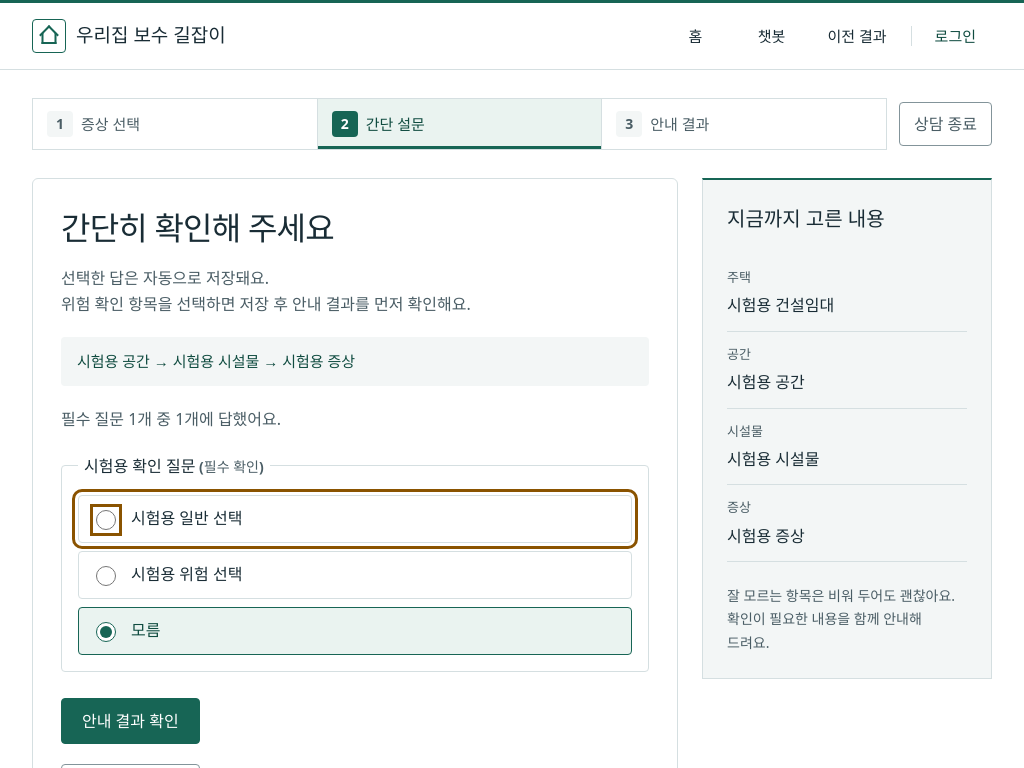
restores keyboard focus to the selected radio after saving reveals a follow-up question
Click the radio button labelled "시험용 일반 선택".
click(106, 520)  # box [96, 510, 116, 530]
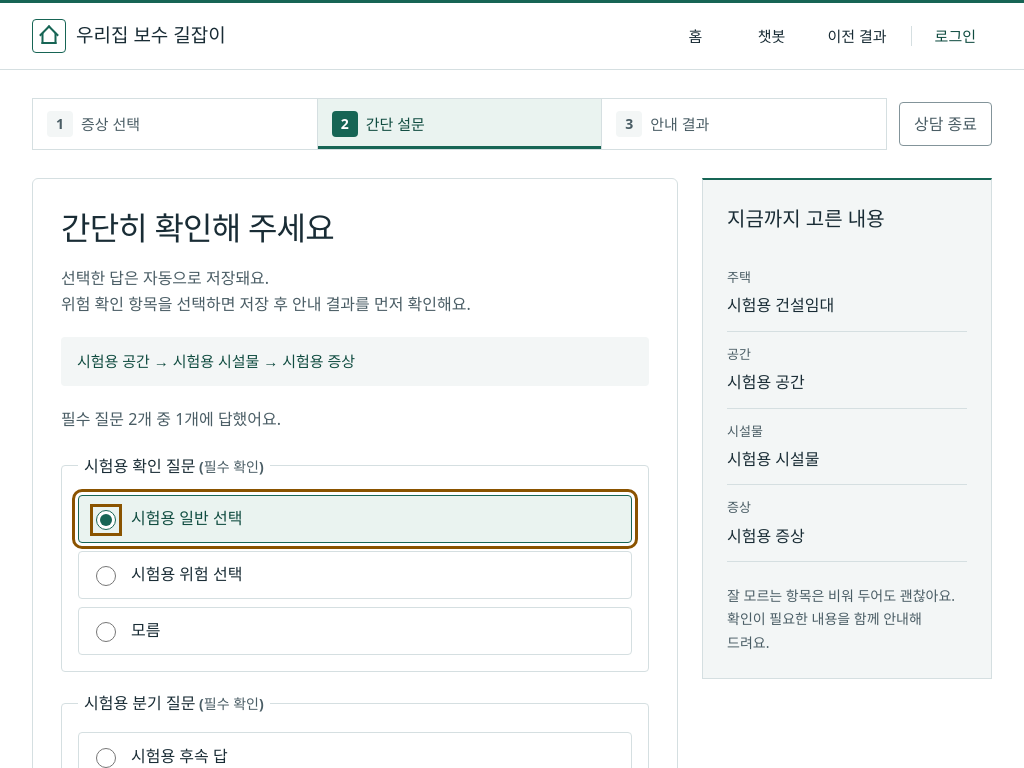
Check: the radio button labelled "시험용 일반 선택" is checked, box [96, 510, 116, 530]
Check: the text "시험용 분기 질문" is shown, box [84, 692, 195, 714]
